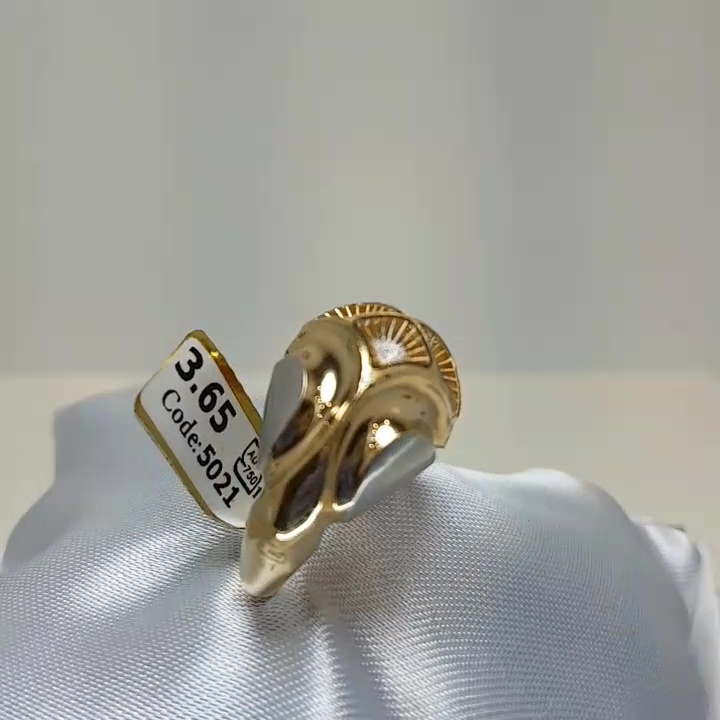Ring 2: (155, 269, 503, 595)
